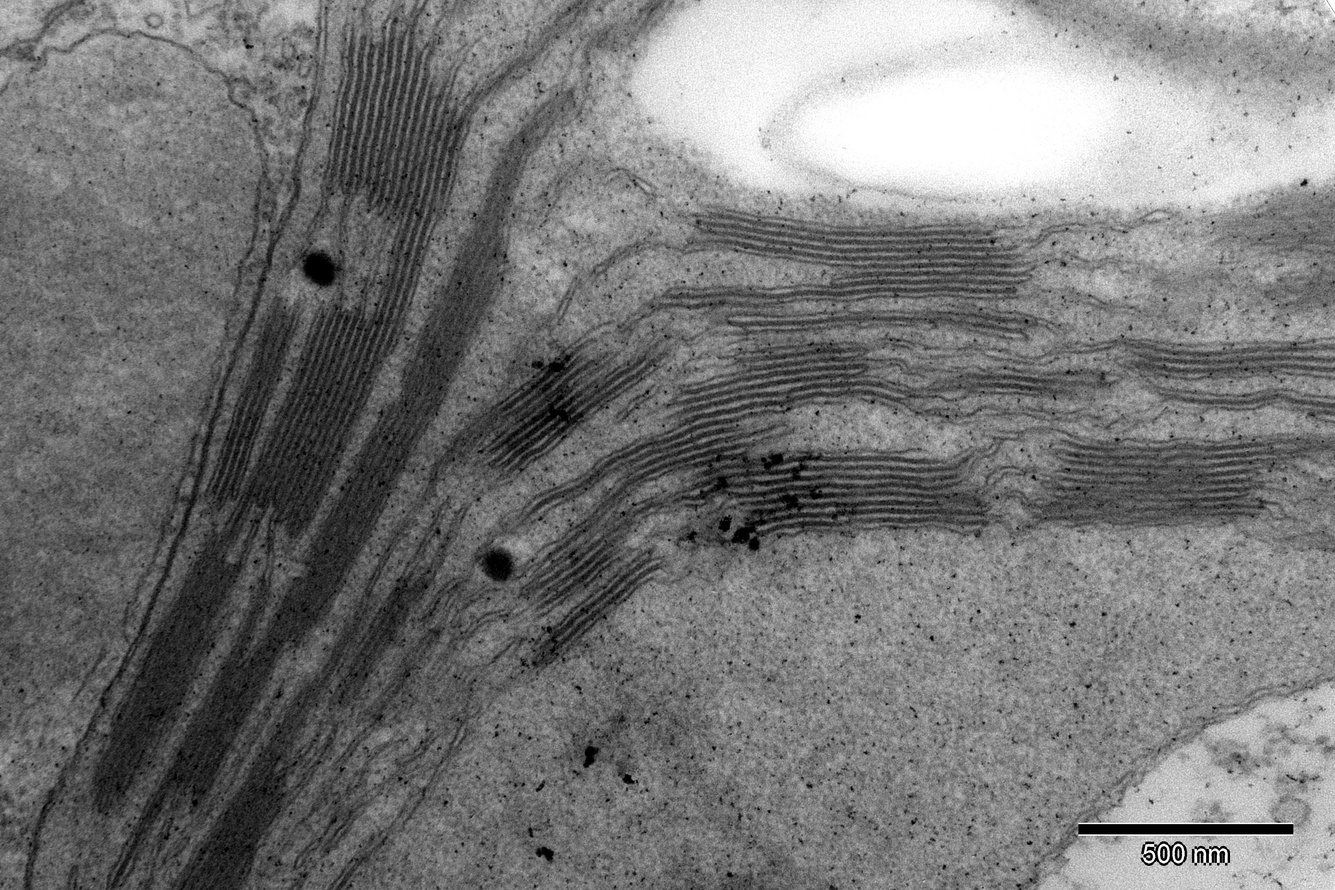granum: (265, 122, 543, 655), (658, 367, 996, 554), (313, 17, 480, 304), (88, 524, 249, 814), (237, 299, 413, 541), (688, 200, 1040, 305), (445, 324, 662, 488), (161, 680, 329, 890), (1035, 427, 1335, 536), (199, 295, 308, 514), (157, 634, 289, 807), (518, 545, 678, 673), (723, 333, 916, 423), (510, 496, 639, 623), (1212, 191, 1335, 318), (332, 577, 428, 706), (1119, 332, 1335, 385), (931, 360, 1118, 405), (603, 427, 688, 494), (925, 300, 1040, 347), (1305, 390, 1334, 424)
